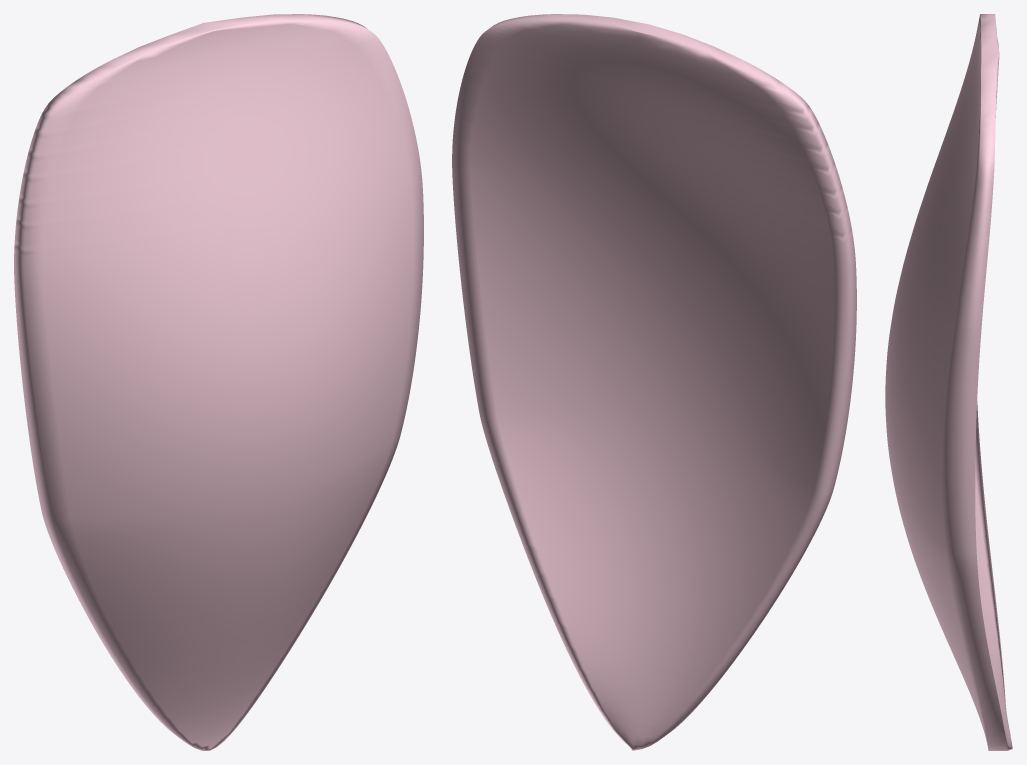
File: shell.web.glb
3 renders of one model, left to right at view 1: azimuth 30°, elevation 25°; view 2: azimuth 150°, elevation 25°; view 3: azimuth 270°, elevation 25°, orthographic. The views are drawn at different scales.
Parts seen in each view (by area): view 1: spike-almond-medium-shell-candidate-v3; view 2: spike-almond-medium-shell-candidate-v3; view 3: spike-almond-medium-shell-candidate-v3.
Boxes of the visible parts, bbox=[...] form: spike-almond-medium-shell-candidate-v3: bbox=[14, 14, 423, 750]; spike-almond-medium-shell-candidate-v3: bbox=[452, 14, 856, 750]; spike-almond-medium-shell-candidate-v3: bbox=[885, 14, 1012, 750].
Bounding box in the file's own units: 11 × 19.1 × 3.16.
